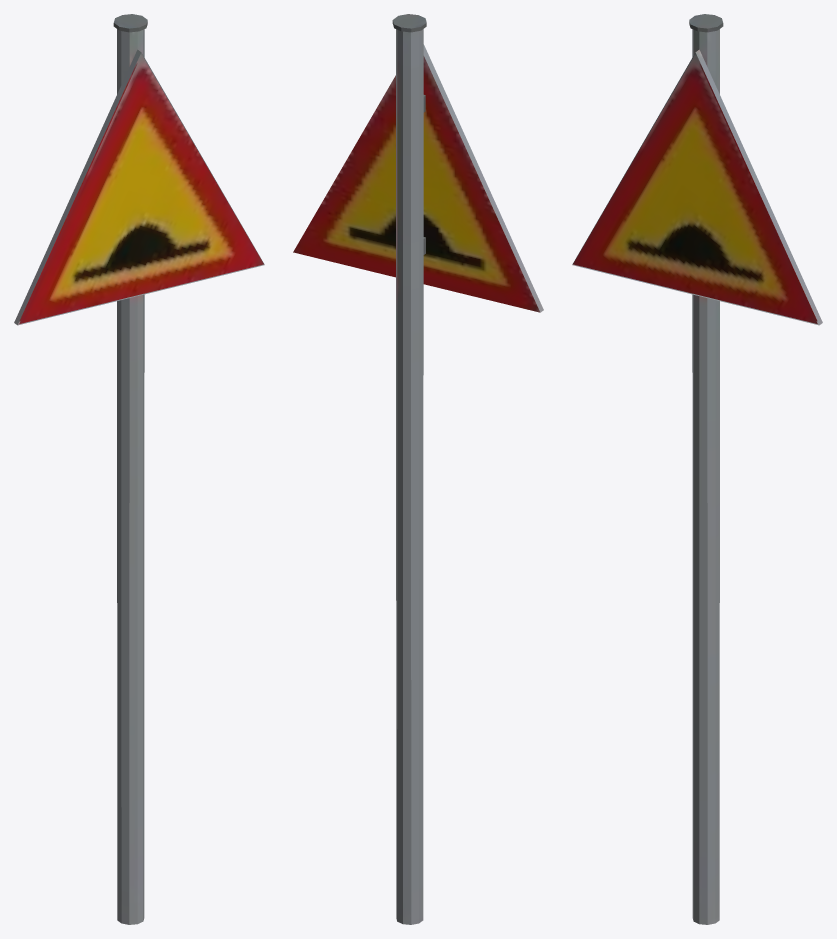
The model's file is sign_warnBump.glb.
3 renders of one model, left to right at view 1: azimuth 30°, elevation 25°; view 2: azimuth 150°, elevation 25°; view 3: azimuth 330°, elevation 25°, orthographic.
Visible parts, largest first — view 1: sign_warnBump_LOD0; view 2: sign_warnBump_LOD0; view 3: sign_warnBump_LOD0.
Part boxes in pixels (left/top/right/bottom): sign_warnBump_LOD0: left=14, top=14, right=264, bottom=924; sign_warnBump_LOD0: left=293, top=14, right=543, bottom=924; sign_warnBump_LOD0: left=572, top=14, right=822, bottom=924.
Size of what is drawn, in the model's own units: 0.7852 by 2.72 by 0.1074.
1 material, 1 textured.
